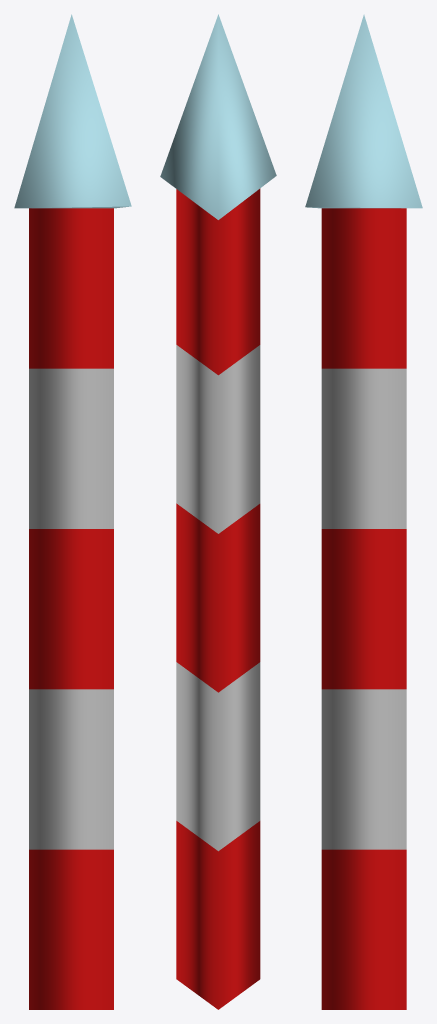
File: onlyHwachaFirework.fbx
The picture shows the model from 3 angles, left to right: view 1: azimuth 90°, elevation 25°; view 2: azimuth 150°, elevation 25°; view 3: azimuth 330°, elevation 25°; orthographic projection.
Visible parts, largest first — view 1: Cylinder002; view 2: Cylinder002; view 3: Cylinder002.
Part boxes in pixels (x1=…): Cylinder002: x1=14, y1=14, x2=131, y2=1009; Cylinder002: x1=160, y1=14, x2=276, y2=1009; Cylinder002: x1=305, y1=14, x2=422, y2=1009.
Bounding box in the file's own units: 1.66 × 1.92 × 17.74.
